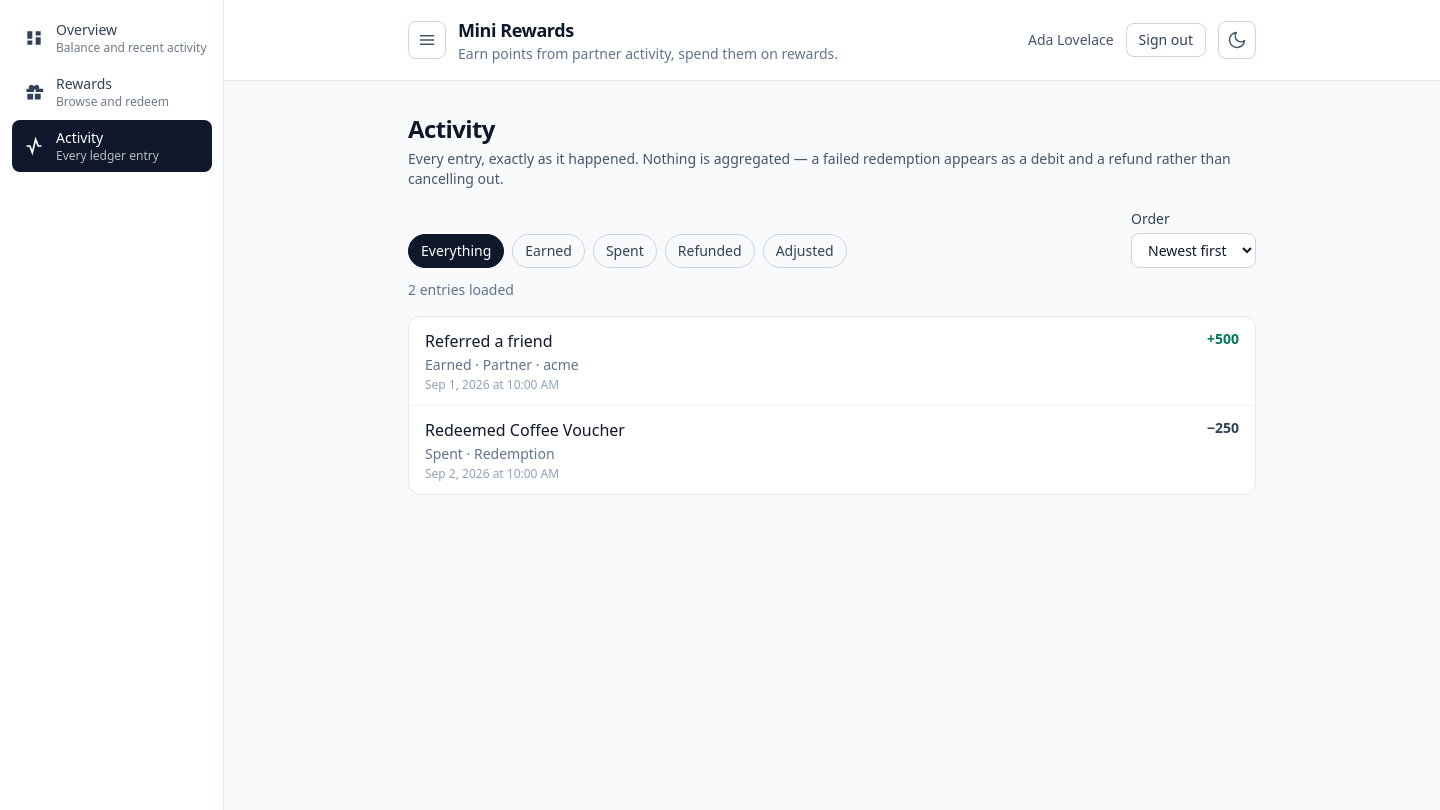
Test: the activity page › says what a filtered empty list means
This screenshot has width=1440, height=810.
Expected: the heading "Activity" is shown, [408, 112, 495, 145]
Click the button "Refunded": {"x": 710, "y": 251} [665, 234, 755, 268]
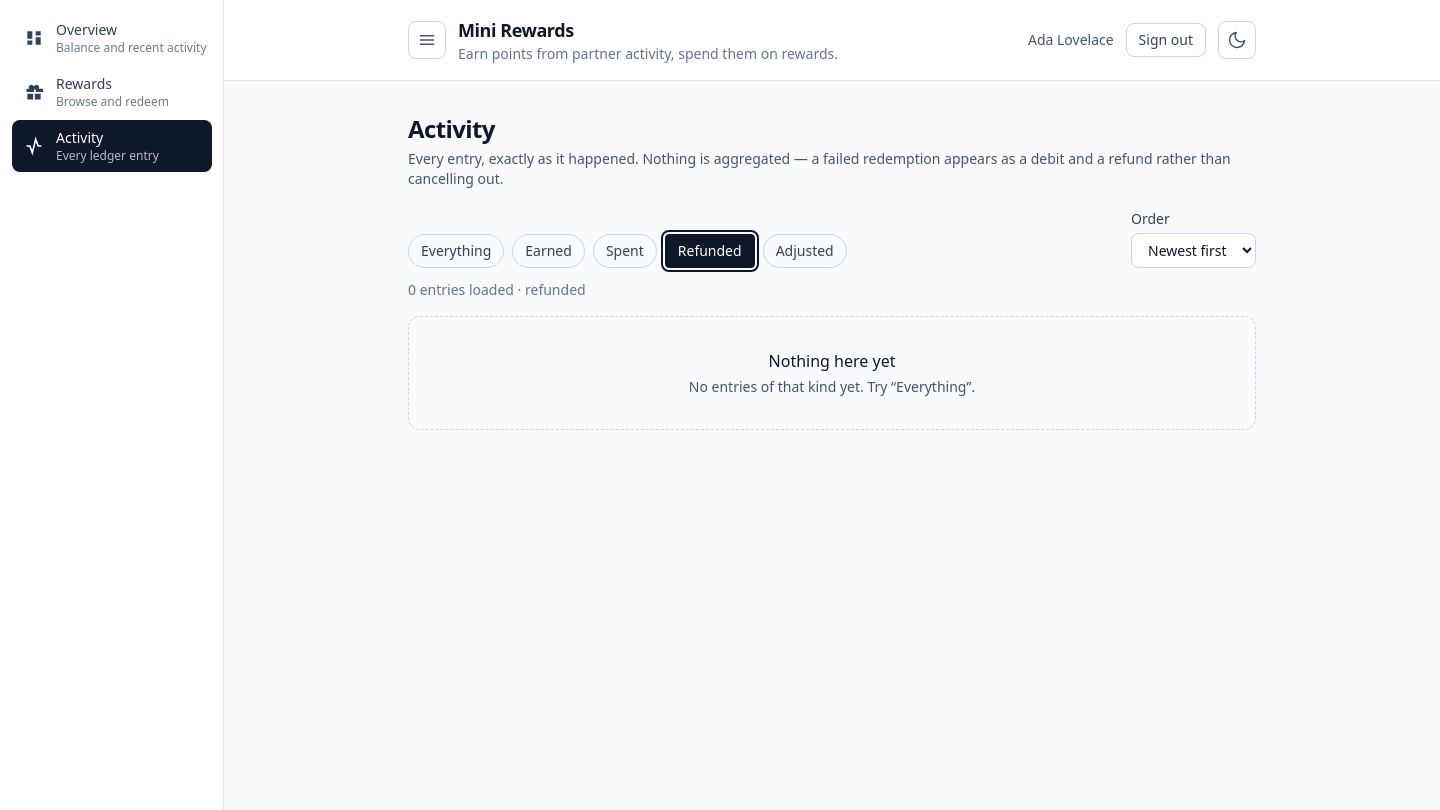
Now the text "No entries of that kind yet. Try “Everything”." is shown, box [689, 377, 975, 396]
